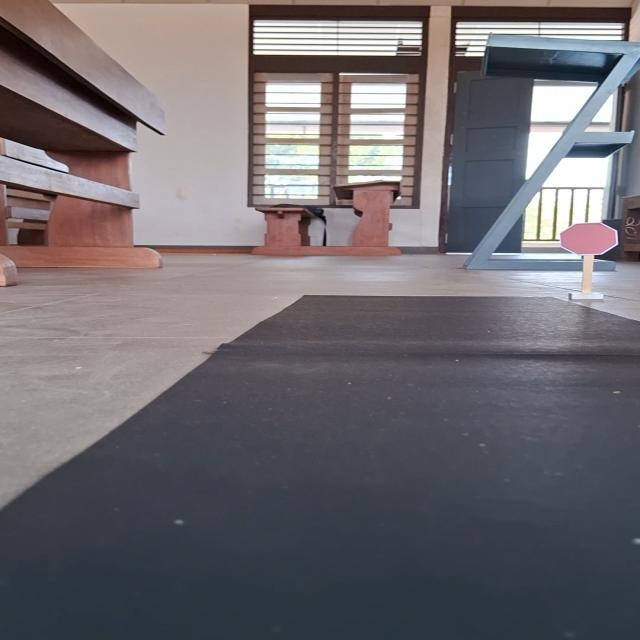Stop: (558, 222, 621, 256)
